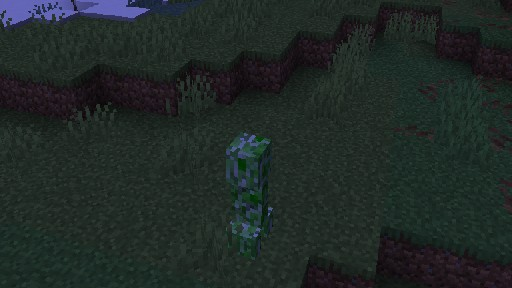creeper: (224, 131, 273, 260)
